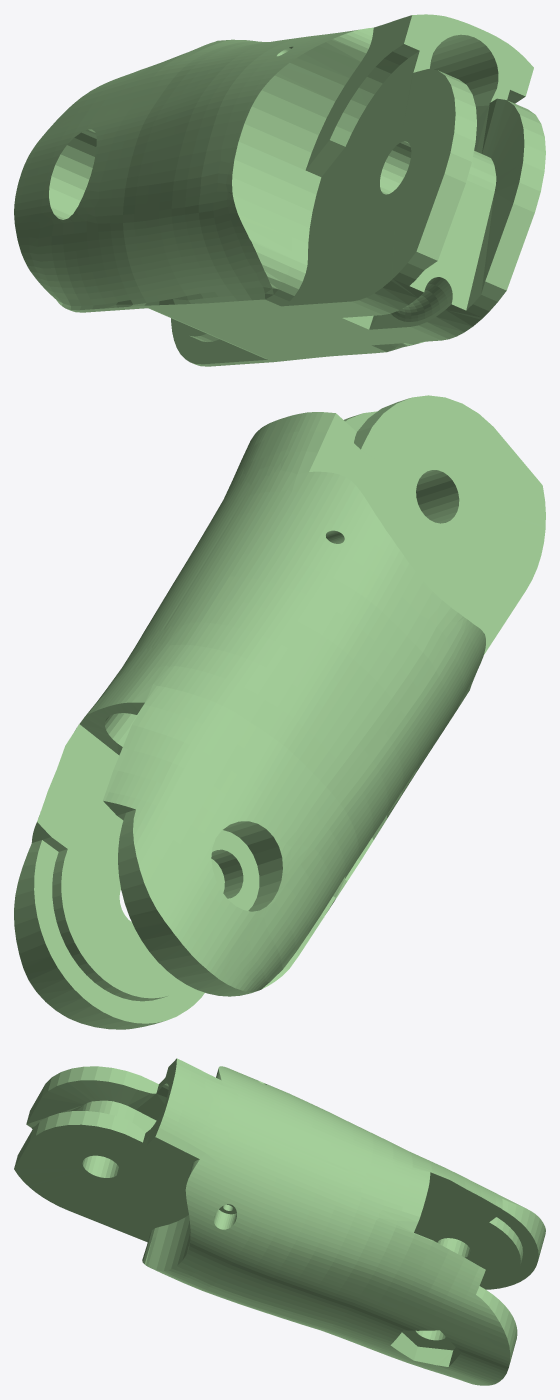
File: i02_leftHand_majeurePhal_visual.obj
3 views of the same model, one above another, from view 1: azimuth 30°, elevation 25°; view 2: azimuth 150°, elevation 25°; view 3: azimuth 270°, elevation 25° (orthographic). The views are drawn at different scales.
Parts seen in each view (by area): view 1: i02_leftHand_majeurePhal_visual.001; view 2: i02_leftHand_majeurePhal_visual.001; view 3: i02_leftHand_majeurePhal_visual.001.
Boxes of the visible parts, box(x1,y1,x2,y2) form: i02_leftHand_majeurePhal_visual.001: box(14, 14, 545, 366); i02_leftHand_majeurePhal_visual.001: box(14, 395, 545, 1029); i02_leftHand_majeurePhal_visual.001: box(14, 1058, 545, 1385).
Bounding box in the file's own units: 0.2039 × 0.3366 × 0.5012.
